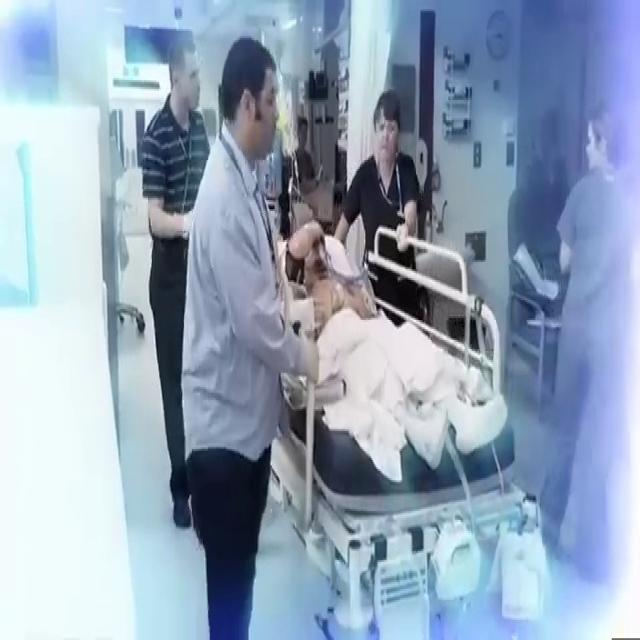monitor: (123, 22, 192, 65), (308, 69, 328, 100)
nurse: (537, 102, 630, 580), (332, 87, 421, 322)
others: (180, 34, 322, 636), (139, 31, 211, 527)
patient: (288, 231, 509, 482)
